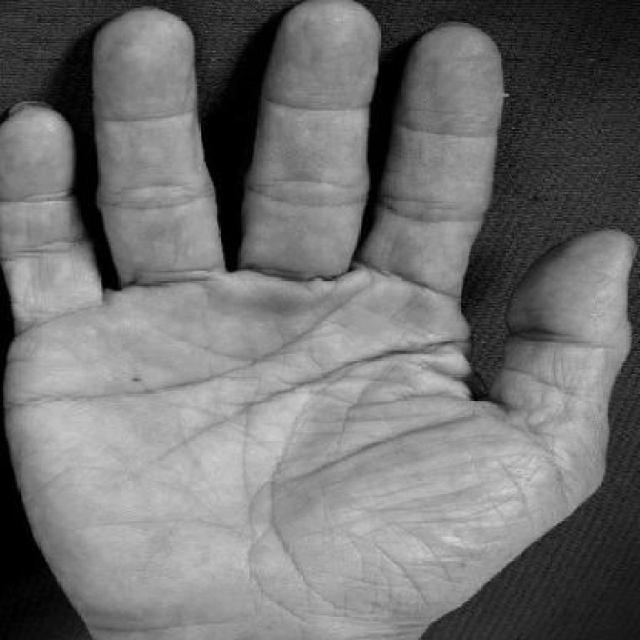no-gloves: (0, 5, 638, 634)
